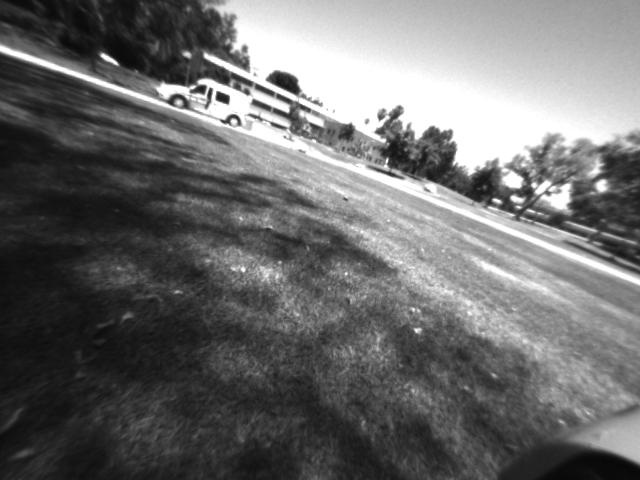dogtoy: (336, 188, 355, 206)
